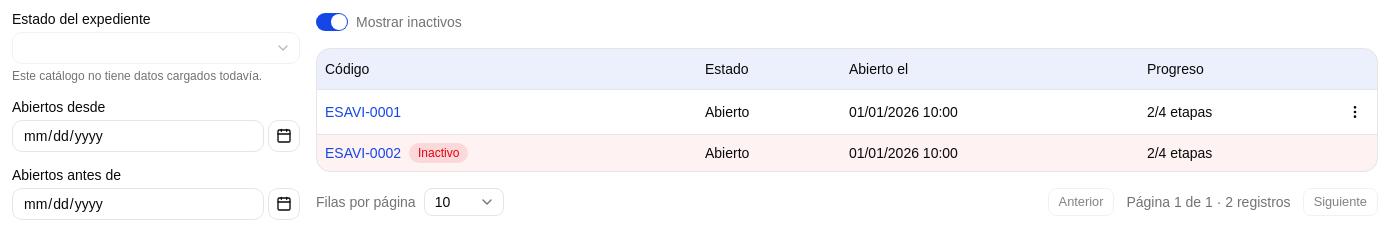
CaseWorkflowInbox — menú de fila del registro › con ADMIN, la fila activa ofrece «Desactivar» y la inactiva no tiene menú
Click the button named "Acciones del registro" at point(1355, 112), box [1341,98,1369,126]
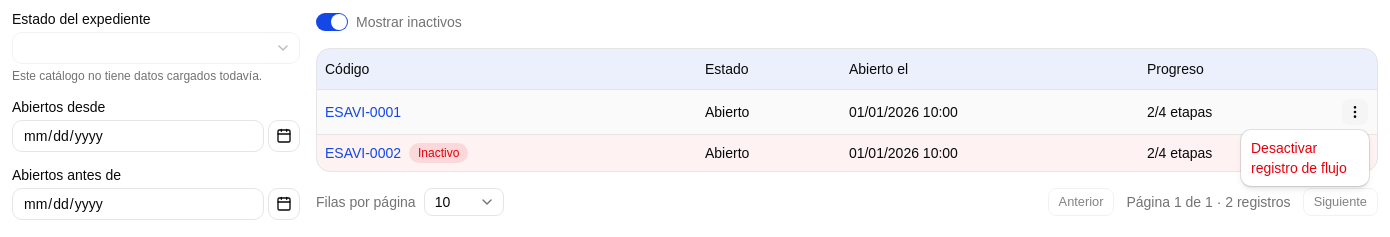
expect the menu item "Desactivar registro de flujo" is shown: met, box [1251,140,1347,176]
